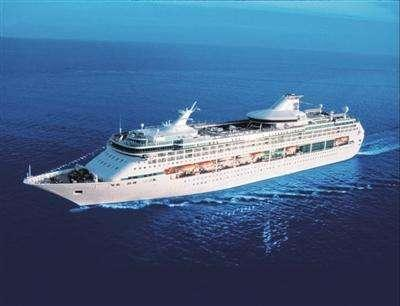youlun: (19, 92, 367, 206)
